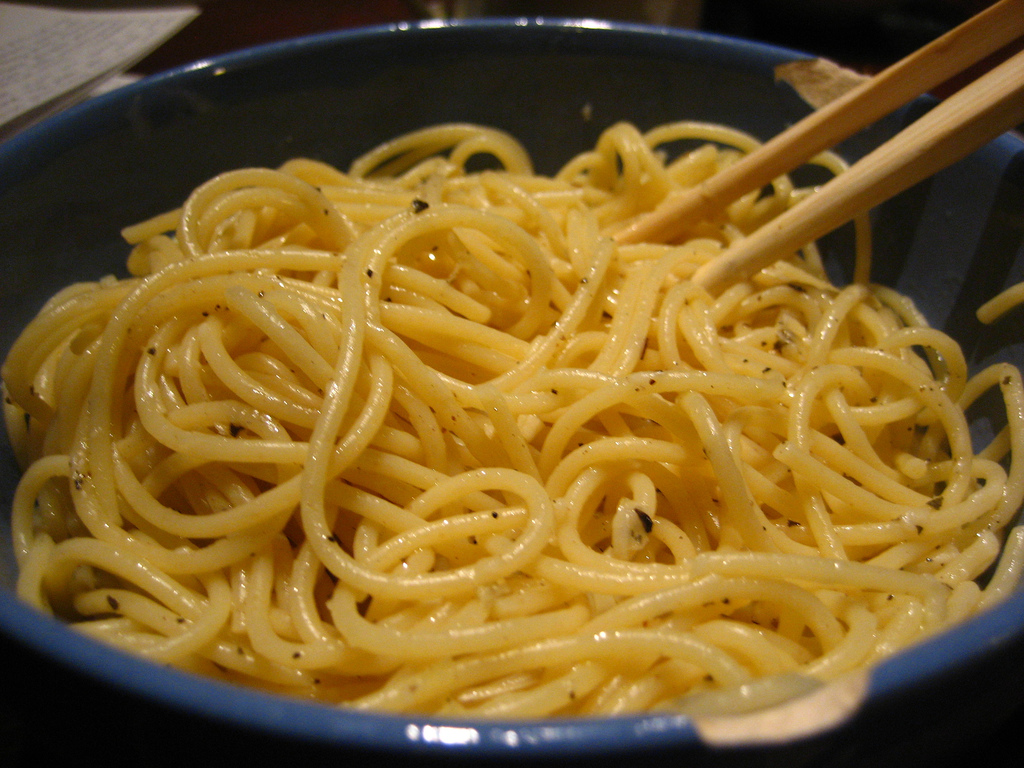plain spaghetti: (23, 116, 1023, 704)
